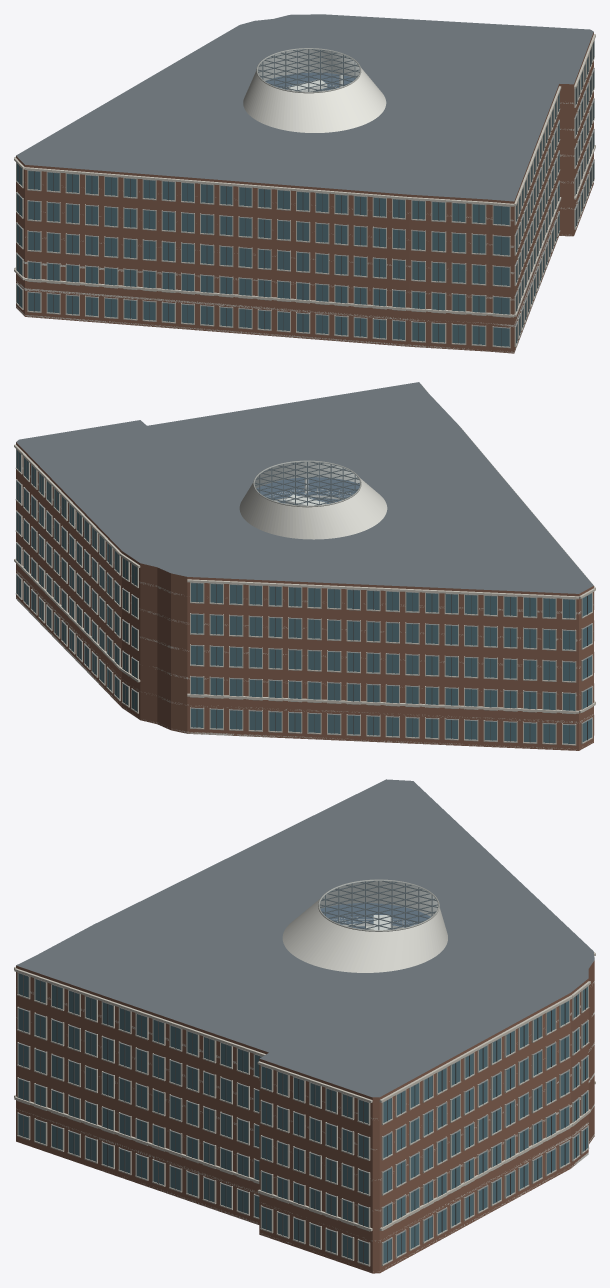
File: lrb-exterior-e569ba8442d3.glb
3 renders of one model, top to bottom at view 1: azimuth 30°, elevation 25°; view 2: azimuth 150°, elevation 25°; view 3: azimuth 270°, elevation 25°, orthographic. The views are drawn at different scales.
Parts seen in each view (by area): view 1: LRB.001; view 2: LRB.001; view 3: LRB.001.
Part boxes in pixels (<box>): LRB.001: <box>14,14,595,353</box>; LRB.001: <box>14,382,595,750</box>; LRB.001: <box>14,779,595,1273</box>.
Size of the model in its own units: 89.59 by 27.34 by 68.9.
